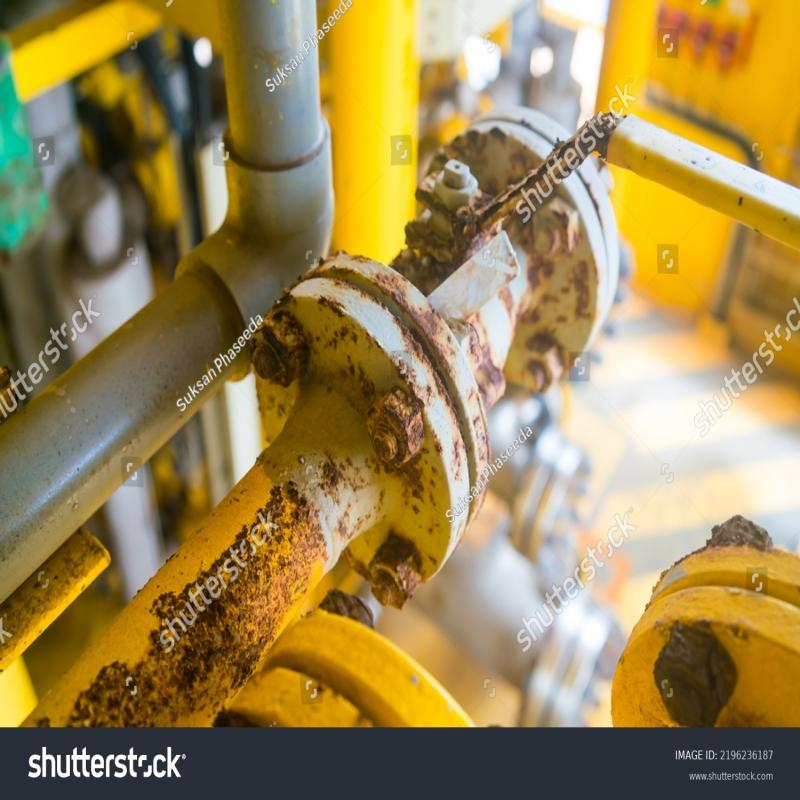corrosion: (309, 276, 492, 525), (111, 547, 296, 719)
